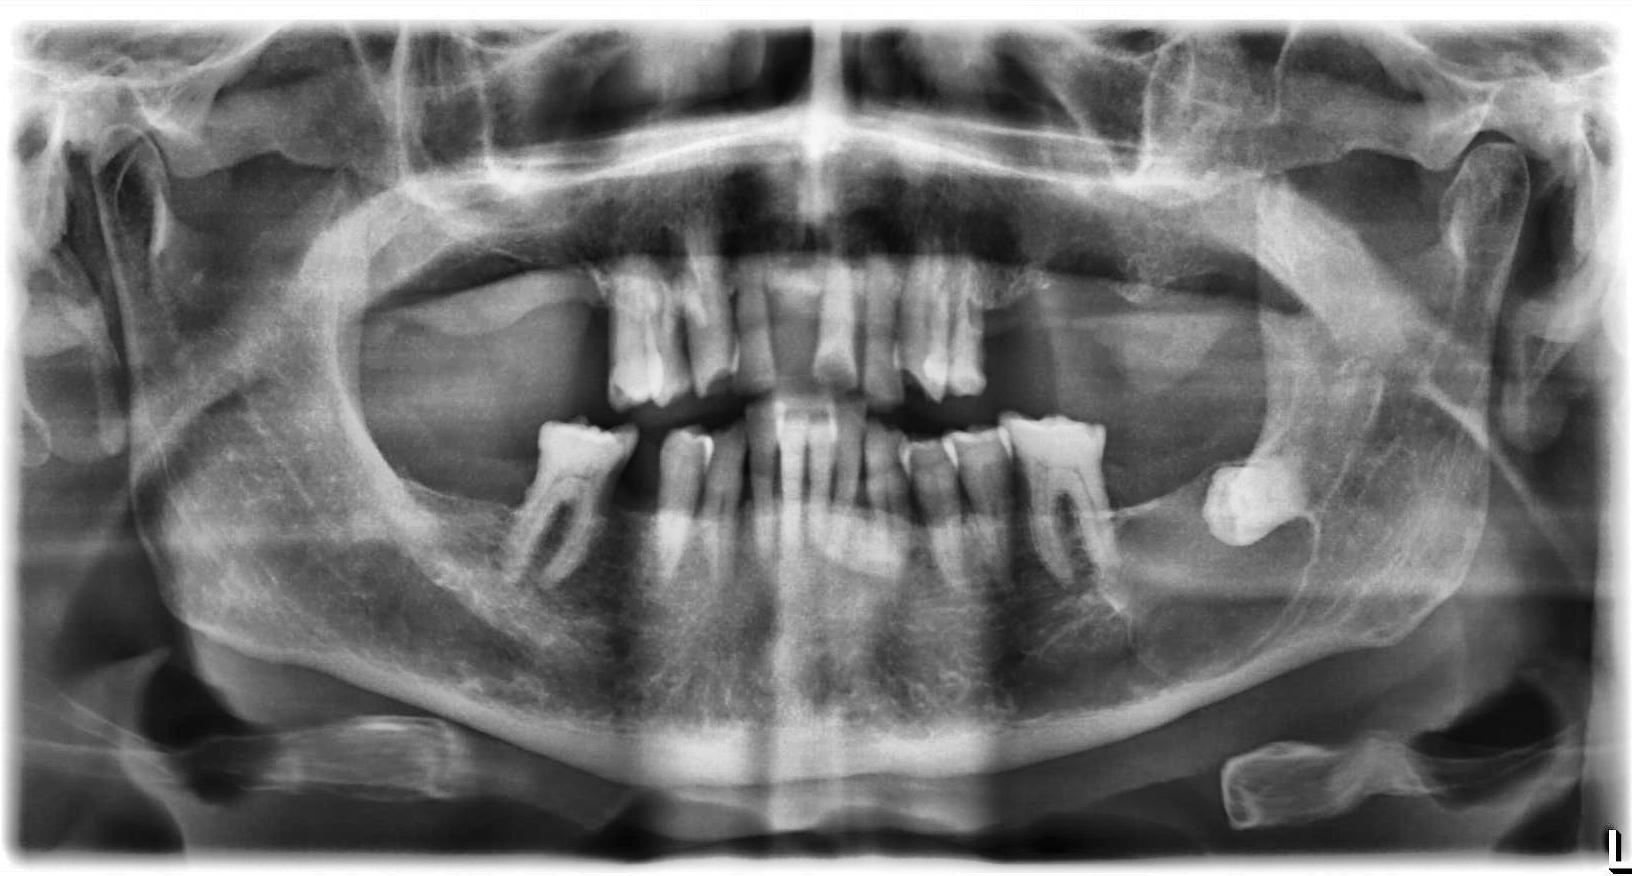enflamatuar: (1096, 462, 1319, 677)
